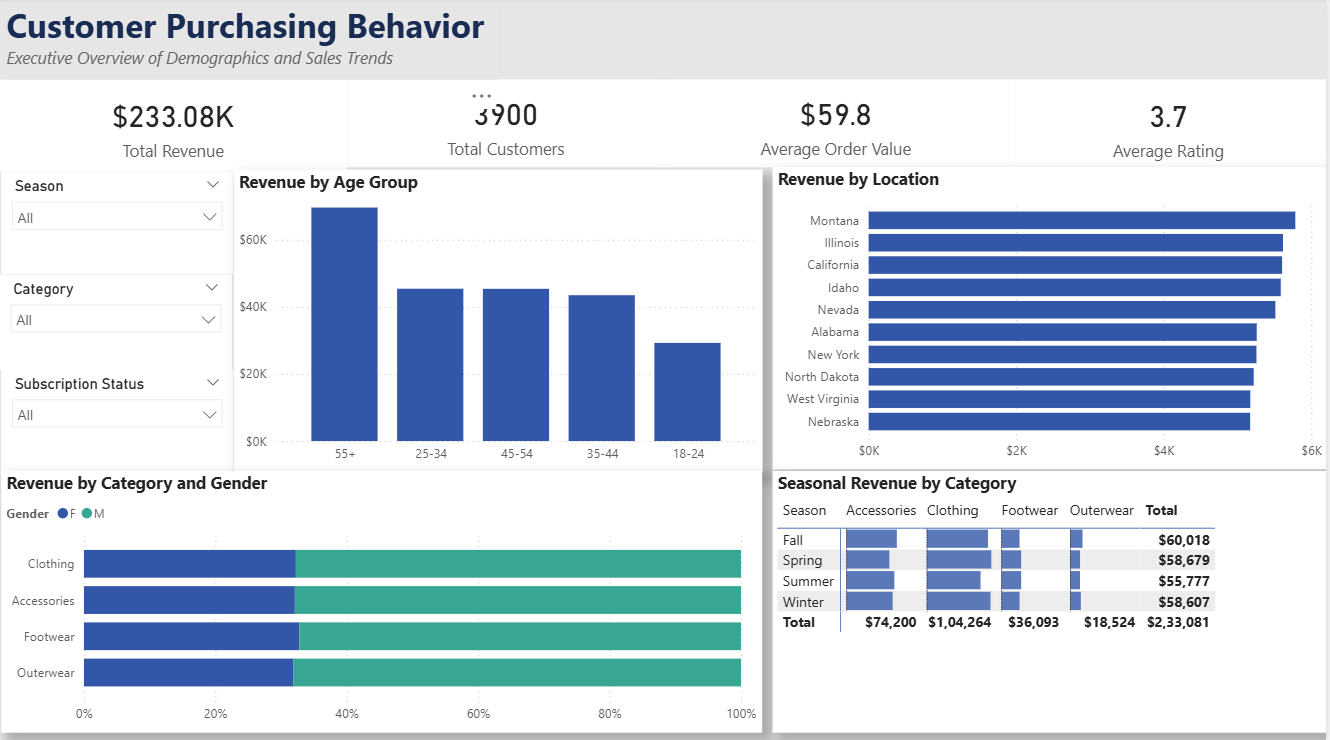

The page's visual inventory and layout, read from the dashboard file:
{"tool":"powerbi","page":{"name":"Executive Overview","canvas":[1280,720],"ordinal":0},"visuals":[{"type":"card","fields":{"Values":["_Key Measures.Total Revenue"]},"box":[0,79.6,334.8,89.2],"z":0},{"type":"card","fields":{"Values":["_Key Measures.Total Customers"]},"box":[334.8,79.6,306,85.1],"z":1000},{"type":"card","fields":{"Values":["_Key Measures.Average Order Value"]},"box":[639.5,79.6,334.8,85.1],"z":2000},{"type":"card","fields":{"Values":["_Key Measures.Average Rating"]},"box":[974.3,79.6,306,89.2],"z":3000},{"type":"slicer","fields":{"Values":["shopping_behavior_updated.Season"]},"box":[1.4,168.8,223.7,98.8],"z":4000},{"type":"slicer","fields":{"Values":["shopping_behavior_updated.Category"]},"box":[0,267.6,223.7,91.9],"z":5000},{"type":"slicer","fields":{"Values":["shopping_behavior_updated.Subscription Status"]},"box":[1.4,359.5,223.7,101.5],"z":6000},{"type":"clusteredColumnChart","title":"Revenue by Age Group","fields":{"Category":["shopping_behavior_updated.Age Group"],"Y":["_Key Measures.Total Revenue"]},"box":[225,166,510.5,292.3],"z":7000},{"type":"clusteredBarChart","title":"Revenue by Location","fields":{"Category":["shopping_behavior_updated.Location"],"Y":["_Key Measures.Total Revenue"]},"box":[745.1,164.7,535.2,292.3],"z":8000},{"type":"hundredPercentStackedBarChart","title":"Revenue by Category and Gender","fields":{"Category":["shopping_behavior_updated.Category"],"Y":["_Key Measures.Total Revenue"],"Series":["shopping_behavior_updated.Gender"]},"box":[1.4,456.9,734.1,252.5],"z":9000},{"type":"pivotTable","title":"Seasonal Revenue by Category","fields":{"Rows":["shopping_behavior_updated.Season"],"Columns":["shopping_behavior_updated.Category"],"Values":["_Key Measures.Total Revenue"]},"box":[745.1,456.9,535.2,252.5],"z":10000},{"type":"textbox","box":[1.4,0,478.9,79.6],"z":11000}]}

Visuals, with their boxes in screenshot pixels (x1, y1, x2, y2), scaled from the page's 1280x720 canvas onto the 1330x740 screenshot:
card - _Key Measures.Total Revenue: box=[0, 82, 348, 173]
card - _Key Measures.Total Customers: box=[348, 82, 666, 169]
card - _Key Measures.Average Order Value: box=[664, 82, 1012, 169]
card - _Key Measures.Average Rating: box=[1012, 82, 1329, 173]
slicer - shopping_behavior_updated.Season: box=[1, 173, 234, 275]
slicer - shopping_behavior_updated.Category: box=[0, 275, 232, 369]
slicer - shopping_behavior_updated.Subscription Status: box=[1, 369, 234, 474]
"Revenue by Age Group" clusteredColumnChart: box=[234, 171, 764, 471]
"Revenue by Location" clusteredBarChart: box=[774, 169, 1329, 470]
"Revenue by Category and Gender" hundredPercentStackedBarChart: box=[1, 470, 764, 729]
"Seasonal Revenue by Category" pivotTable: box=[774, 470, 1329, 729]
textbox: box=[1, 0, 499, 82]
